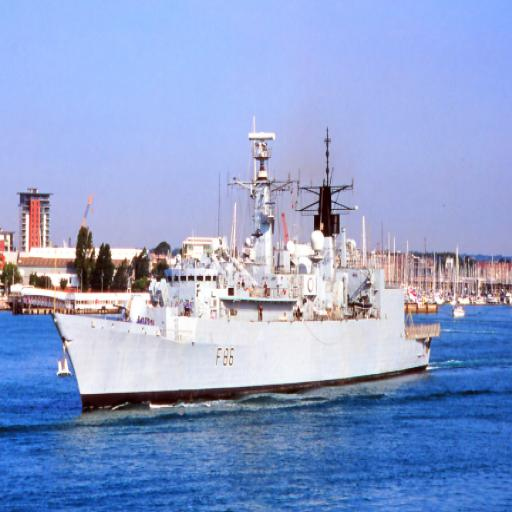Fragata: (47, 121, 438, 422)
